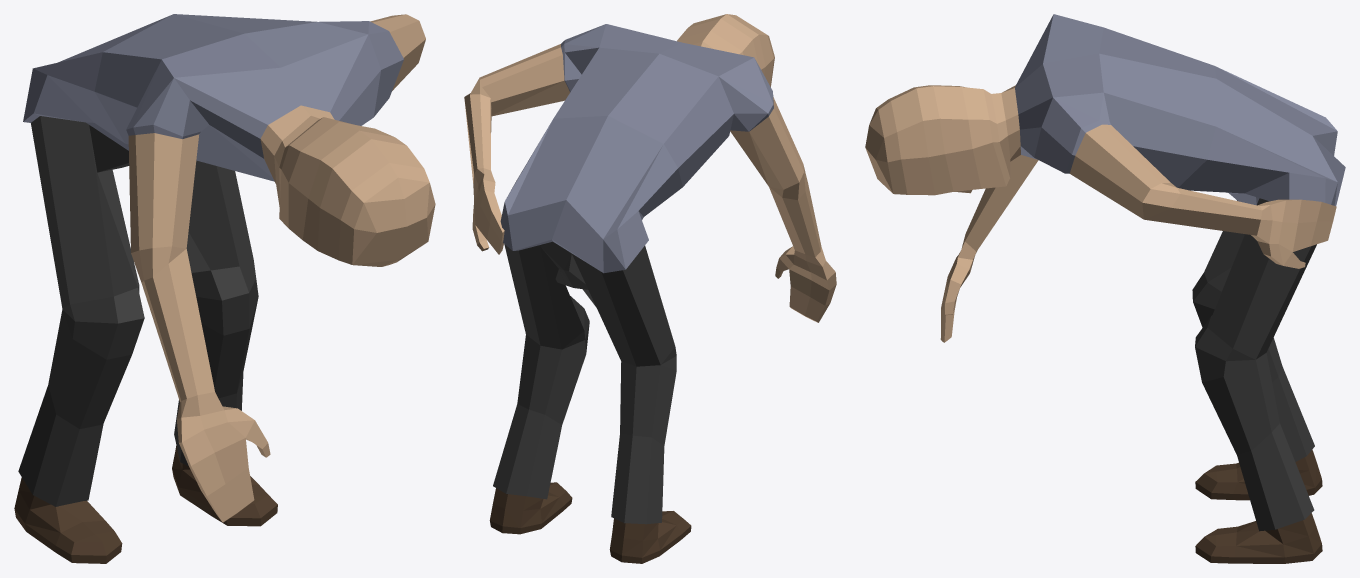
Rendered from crowd_eclair_male_pickingup.e85517ab.glb.
3 views of the same model, side by side, from view 1: azimuth 30°, elevation 25°; view 2: azimuth 150°, elevation 25°; view 3: azimuth 270°, elevation 25° (orthographic). The views are drawn at different scales.
Parts seen in each view (by area): view 1: Skin, Pants, Shirt, Shoes; view 2: Shirt, Pants, Skin, Shoes; view 3: Shirt, Skin, Pants, Shoes.
Part boxes in pixels (left/top/right/bottom): Skin: left=128, top=14, right=435, bottom=522; Pants: left=18, top=116, right=258, bottom=506; Shirt: left=23, top=14, right=403, bottom=181; Shoes: left=14, top=445, right=277, bottom=563; Shirt: left=500, top=24, right=773, bottom=273; Pants: left=493, top=241, right=676, bottom=524; Skin: left=464, top=14, right=836, bottom=322; Shoes: left=489, top=482, right=691, bottom=563; Shirt: left=1015, top=14, right=1345, bottom=206; Skin: left=865, top=85, right=1336, bottom=342; Pants: left=1192, top=198, right=1316, bottom=531; Shoes: left=1195, top=449, right=1322, bottom=563.
Bounding box in the file's own units: 1.59 × 2.33 × 2.16.
